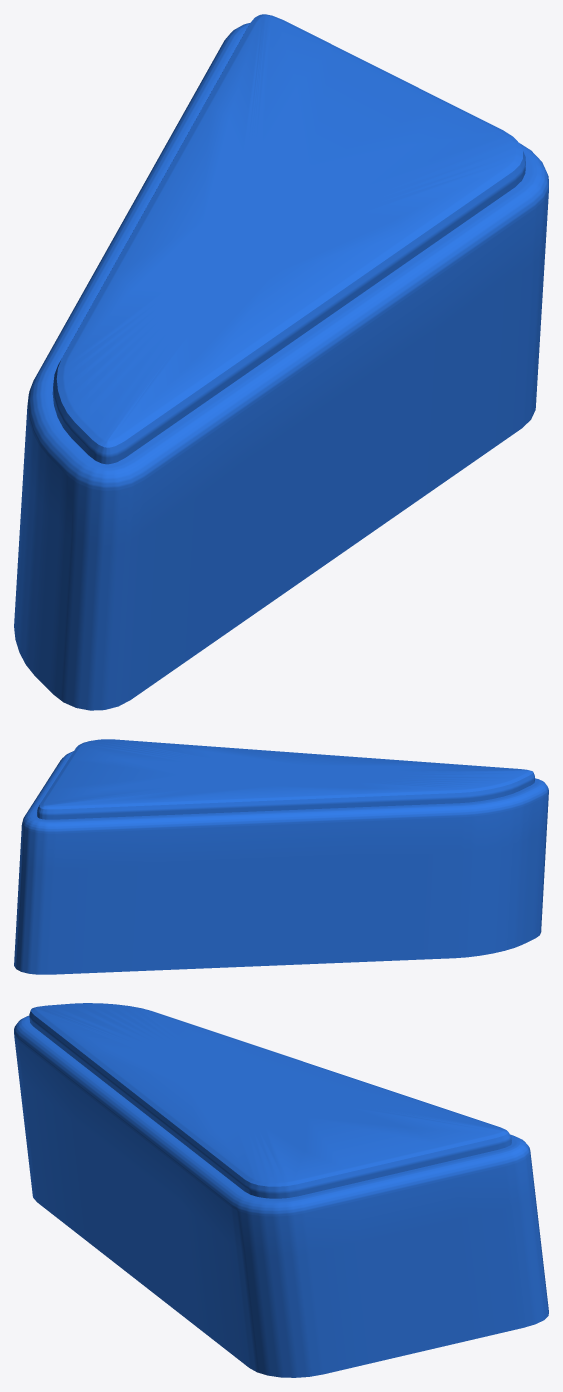
Rendered from arm_hand.fbx.
3 views of the same model, one above another, from view 1: azimuth 30°, elevation 25°; view 2: azimuth 150°, elevation 25°; view 3: azimuth 270°, elevation 25° (orthographic). The views are drawn at different scales.
Parts seen in each view (by area): view 1: Cube.015; view 2: Cube.015; view 3: Cube.015.
Boxes of the visible parts, x1,y1,x2,y2 form: Cube.015: (14, 14, 548, 710); Cube.015: (14, 739, 548, 974); Cube.015: (14, 1003, 548, 1377).
Bounding box in the file's own units: 38.43 × 18.86 × 39.52.
